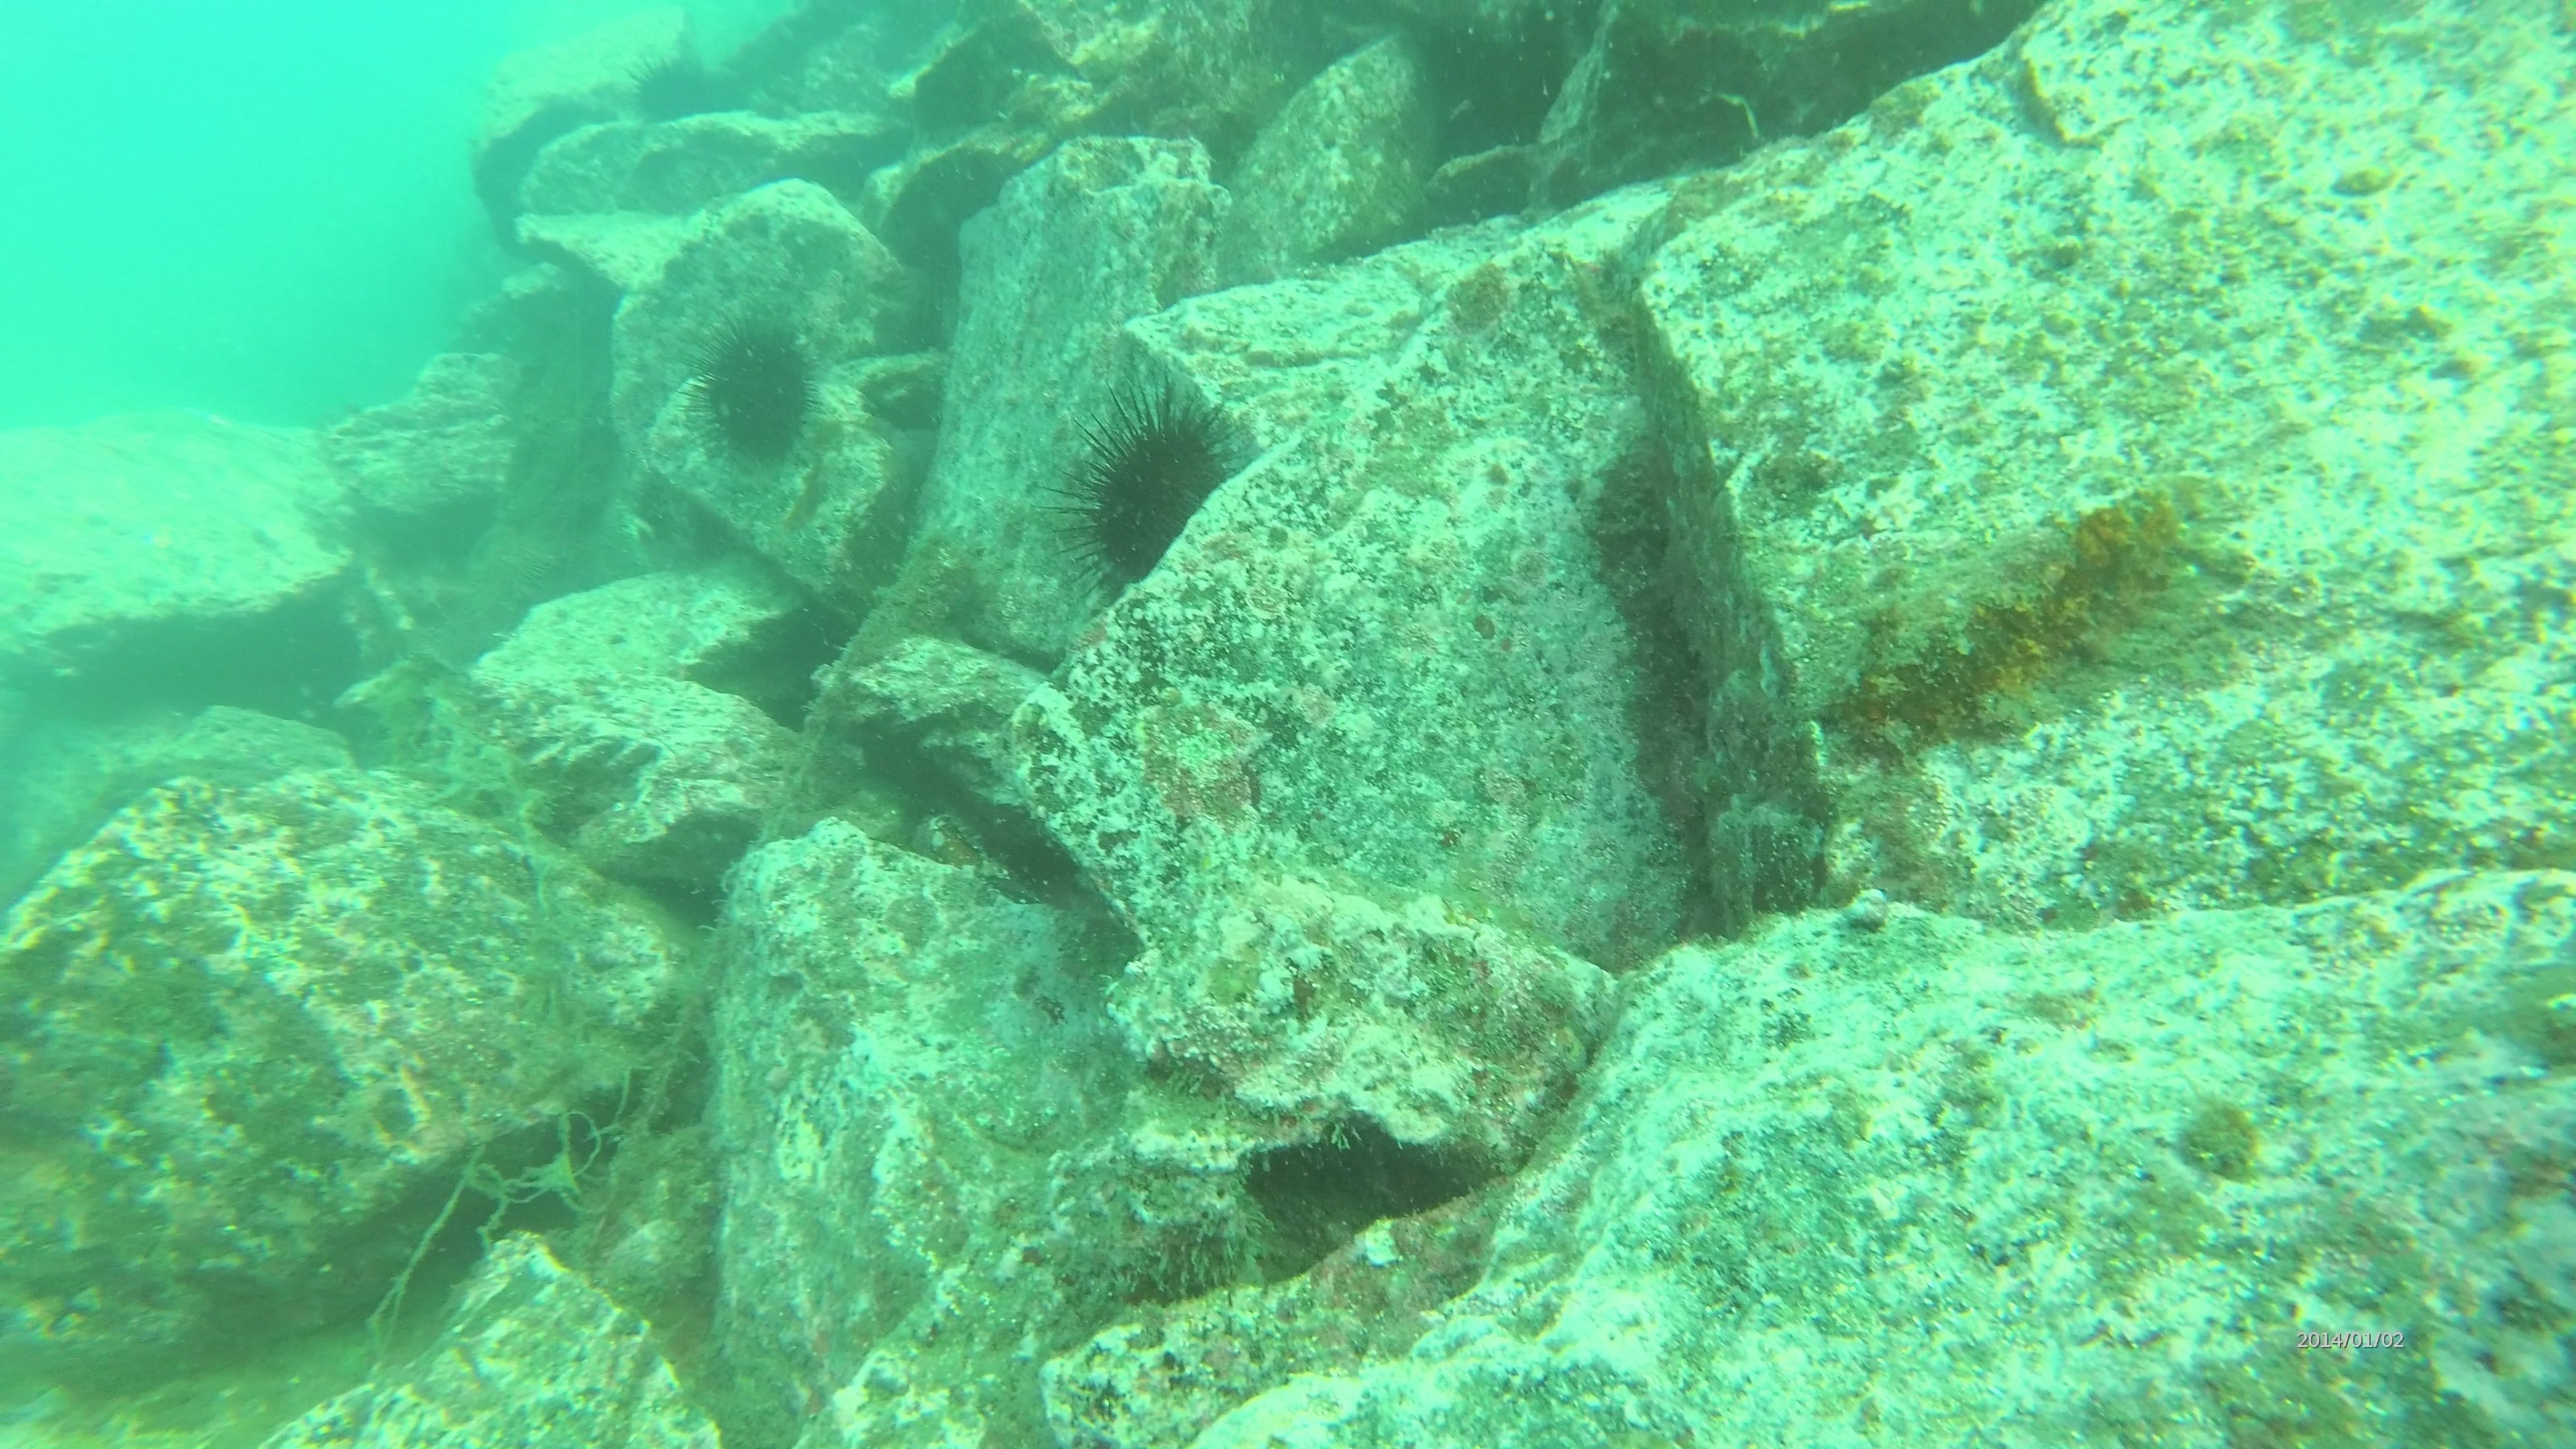echinus: (1054, 384, 1258, 602), (685, 310, 828, 471), (623, 48, 729, 133)
